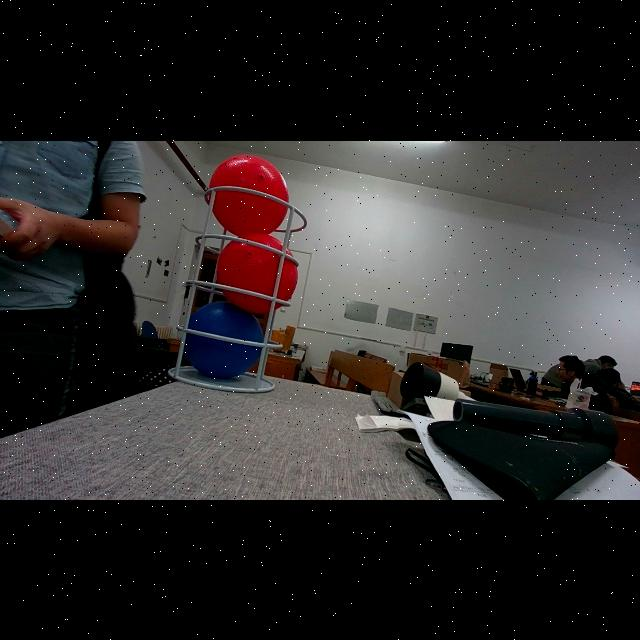B: (182, 300, 262, 378)
R: (208, 154, 292, 236), (216, 233, 298, 313)
S: (168, 185, 308, 393)
